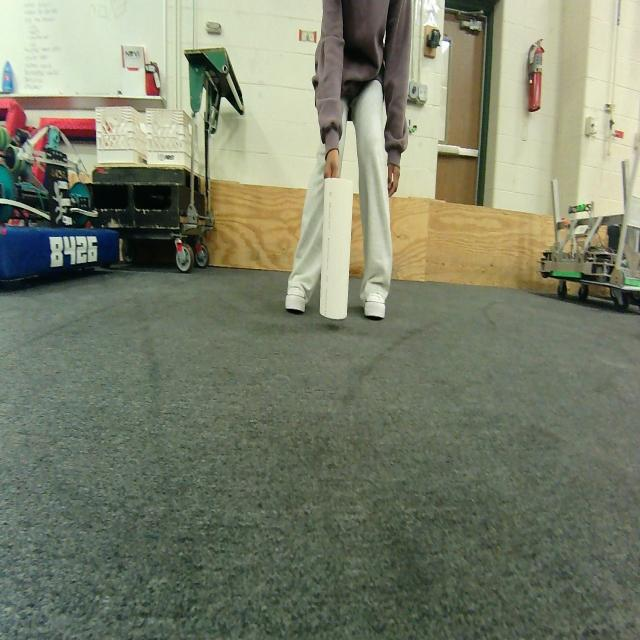coral: (316, 175, 364, 332)
